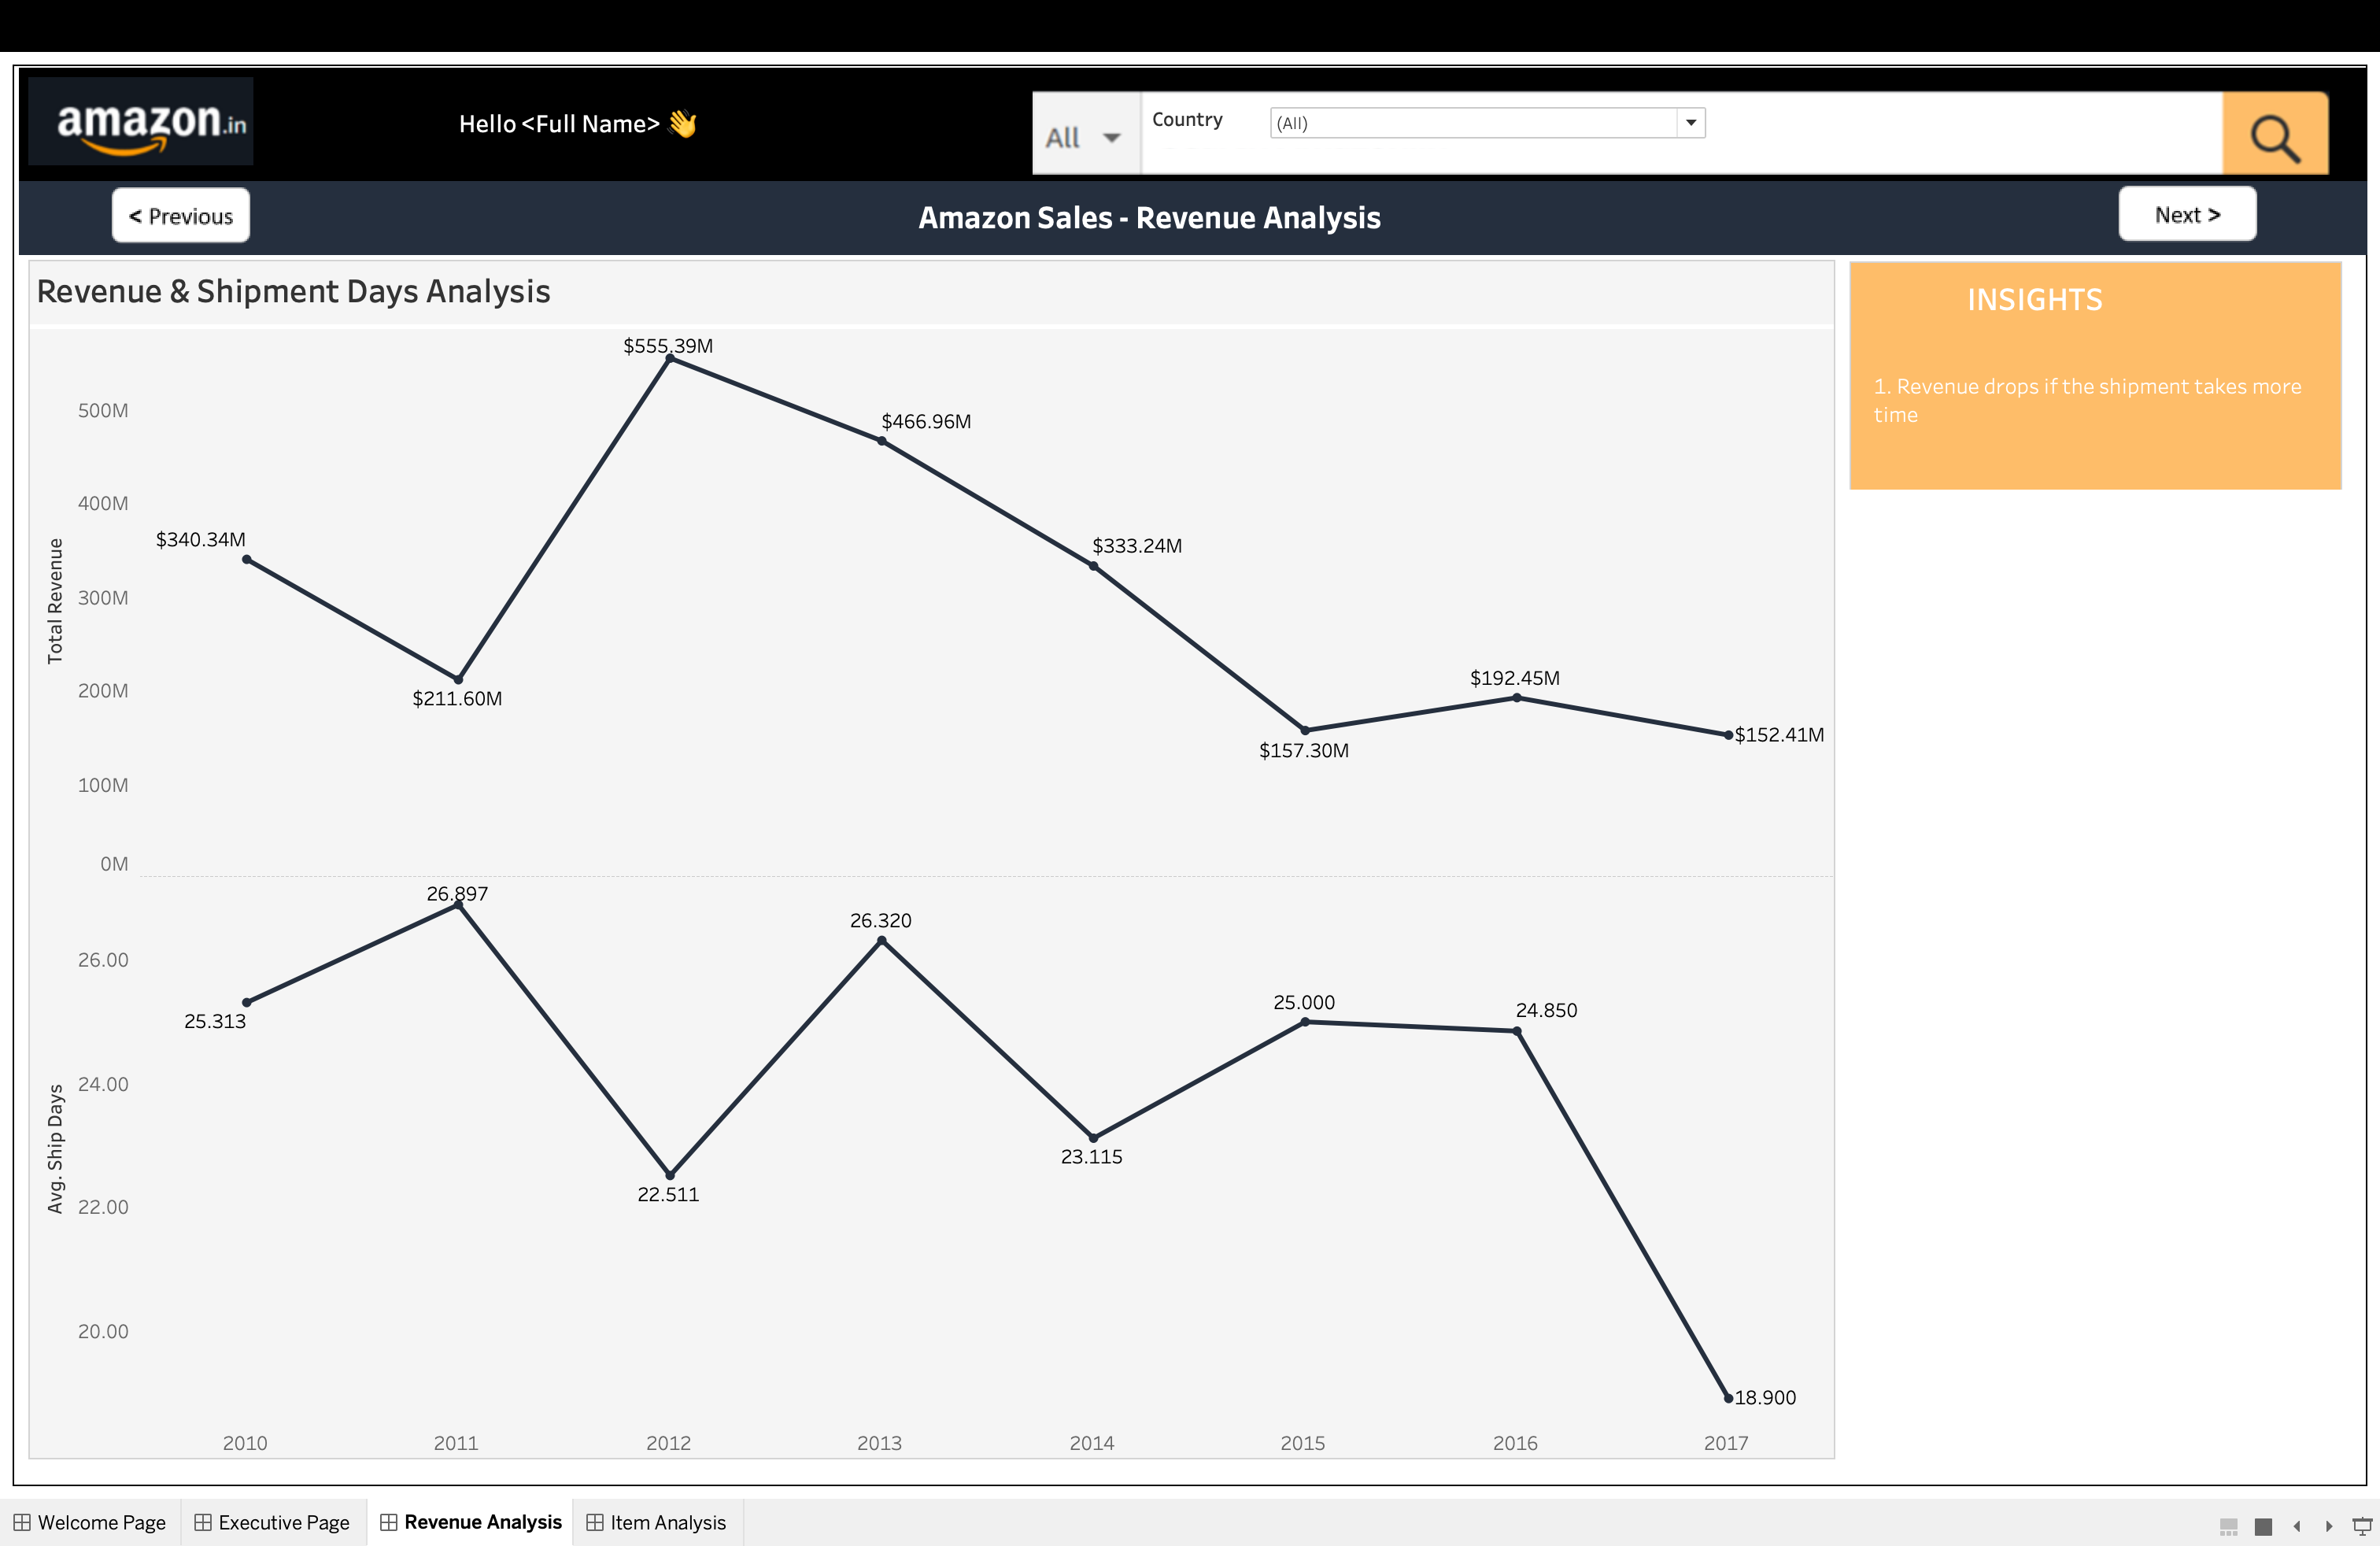

Layout of this report page (visuals, bound fields, positions):
{"tool":"tableau","page":{"name":"Revenue Analysis","canvas":[1000,1000],"units":"permille","ordinal":2},"visuals":[{"type":"blank","box":[8,11.2,987,78.8]},{"type":"image","param":"Image/amazon newlogo.png","box":[12,17.5,215,61.2]},{"type":"image","param":"Image/search.png","box":[434,26.2,545,86.2]},{"type":"text","box":[191,27.5,200,45]},{"type":"filter","title":"Sheet 11","param":"[federated.1xt4xth02kohnm1cjtdq30da3373].[none:Country:nk]","box":[484,35,235,31.2]},{"type":"blank","box":[8,88.8,987,51.2]},{"type":"text","box":[384,91.2,311,45]},{"type":"dashboard-object","box":[855,92.5,129,42.5]},{"type":"dashboard-object","box":[12,93.8,129,42.5]},{"type":"worksheet","title":"Sheet 11","mark":"Automatic","rows":["Total Revenue","Calculation_3058155302821576707"],"cols":["Ship Date"],"box":[12,143.8,759,828.8]},{"type":"blank","box":[777,144.3,207,158.6]},{"type":"text","box":[825,151.2,100,37.5]},{"type":"text","box":[786,212.5,188,56.2]}]}

Visuals, with their boxes on the dashboard's canvas, which has no fixed pixel size, in thousandths of its width and height (x1, y1, x2, y2). These are canvas units, not pixel positions in the 2380x1546 screenshot, which may show the page scaled, cropped or inside an application window:
blank: 8:11:995:90
image: 12:18:227:79
image: 434:26:979:112
text: 191:28:391:72
"Sheet 11" filter: 484:35:719:66
blank: 8:89:995:140
text: 384:91:695:136
dashboard-object: 855:92:984:135
dashboard-object: 12:94:141:136
"Sheet 11" worksheet: 12:144:771:973
blank: 777:144:984:303
text: 825:151:925:189
text: 786:212:974:269
